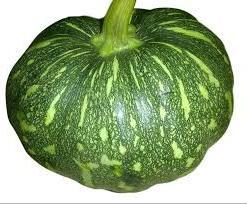pumpkin: (4, 0, 234, 193)
